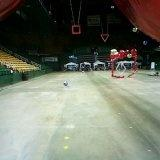Green_Balloon: (132, 27, 138, 33), (127, 54, 132, 58)
Orange_Square_GShape: (71, 24, 82, 35)
Orange_Triangle_Gshape: (99, 34, 109, 44)
Purple_Balloon: (64, 81, 68, 87), (143, 40, 147, 45)
